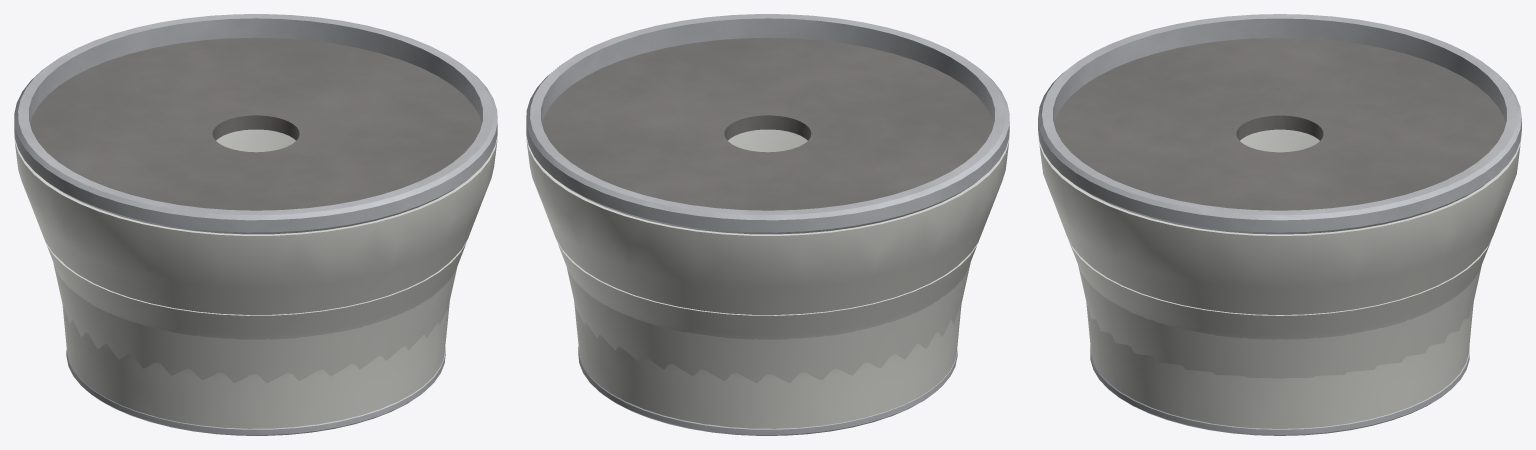
The model's file is ax_struct_11_boat_tail_m.glb.
The picture shows the model from 3 angles, left to right: view 1: azimuth 30°, elevation 25°; view 2: azimuth 150°, elevation 25°; view 3: azimuth 270°, elevation 25°; orthographic projection.
Parts seen in each view (by area): view 1: skirt_shell, thrust_plate, top_ring, bottom_lip; view 2: skirt_shell, thrust_plate, top_ring, bottom_lip; view 3: skirt_shell, thrust_plate, top_ring, bottom_lip.
Boxes of the visible parts, left/top/right/bottom form: skirt_shell: left=14, top=129, right=497, bottom=428; thrust_plate: left=30, top=37, right=481, bottom=210; top_ring: left=14, top=14, right=497, bottom=234; bottom_lip: left=66, top=347, right=445, bottom=435; skirt_shell: left=526, top=129, right=1009, bottom=428; thrust_plate: left=542, top=37, right=993, bottom=210; top_ring: left=526, top=14, right=1009, bottom=234; bottom_lip: left=578, top=347, right=957, bottom=435; skirt_shell: left=1038, top=129, right=1521, bottom=428; thrust_plate: left=1054, top=37, right=1505, bottom=210; top_ring: left=1038, top=14, right=1521, bottom=234; bottom_lip: left=1090, top=346, right=1469, bottom=435.
Bounding box in the file's own units: 2.5 × 1.38 × 2.5.
Materials: 4 (3 with a texture image).
